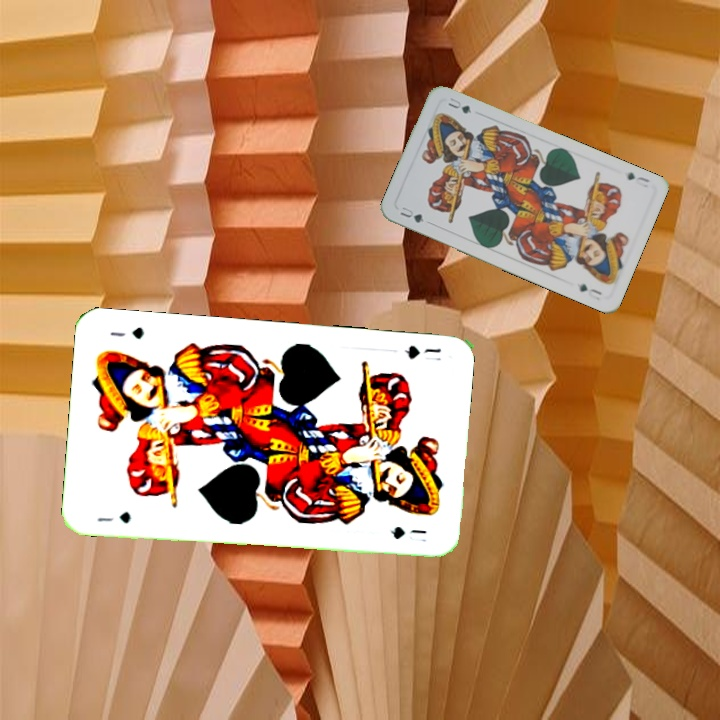GU: (400, 341, 444, 363), (93, 507, 133, 526), (396, 203, 426, 226), (623, 168, 652, 190)
